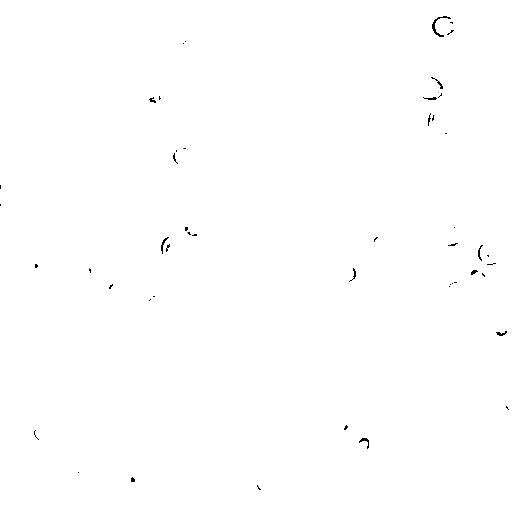micro-algae: (2, 37, 65, 99), (163, 383, 220, 442), (111, 456, 168, 511), (79, 250, 130, 305), (442, 59, 489, 102), (249, 462, 296, 504), (340, 345, 373, 379), (426, 106, 459, 139), (414, 74, 448, 101), (118, 466, 147, 497), (387, 283, 415, 315), (143, 241, 171, 271), (423, 449, 452, 477), (228, 35, 257, 62), (475, 239, 505, 265), (24, 251, 51, 278), (161, 233, 187, 261), (61, 458, 90, 483), (45, 395, 71, 421), (462, 268, 489, 291), (257, 421, 281, 446), (432, 14, 457, 37), (437, 223, 462, 246), (125, 0, 169, 13), (33, 421, 58, 443), (171, 145, 197, 166), (336, 261, 359, 284), (177, 35, 199, 59), (140, 86, 165, 107), (180, 411, 198, 436), (145, 292, 166, 313), (447, 281, 469, 301), (255, 468, 274, 491), (123, 443, 143, 461), (490, 400, 510, 418), (182, 220, 203, 237), (388, 242, 406, 261), (493, 317, 510, 337), (40, 121, 58, 139), (373, 233, 387, 253), (88, 260, 104, 277), (141, 0, 162, 12), (396, 0, 415, 13), (1, 185, 13, 205), (357, 435, 371, 452), (333, 419, 350, 432), (108, 281, 123, 295)
